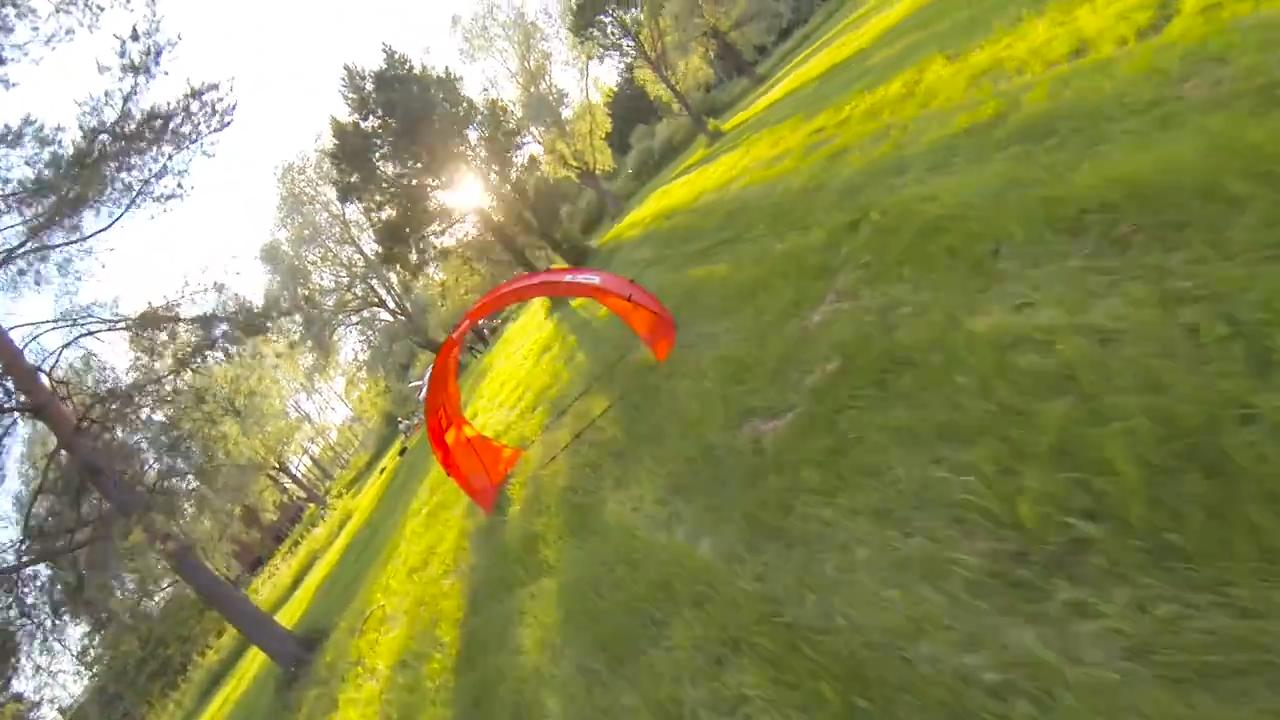gate: (423, 266, 683, 507)
